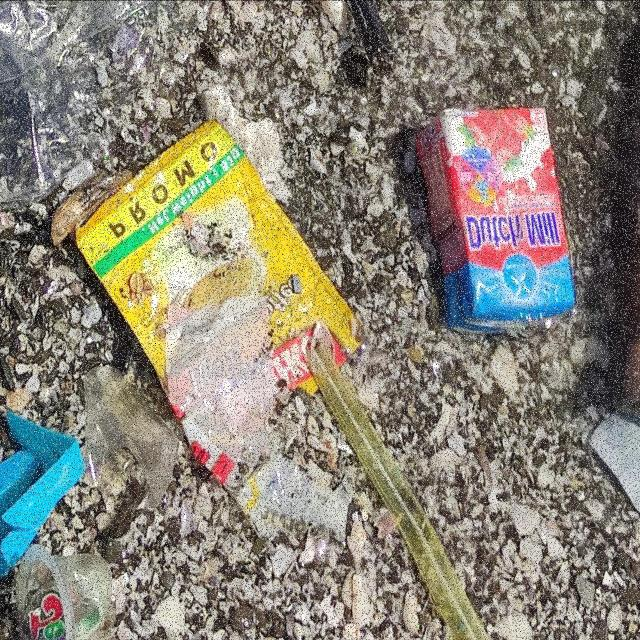cardboard_waste: (417, 107, 578, 337)
plastic_waste: (73, 115, 363, 516), (306, 344, 515, 640), (5, 393, 90, 614), (12, 544, 117, 640)
